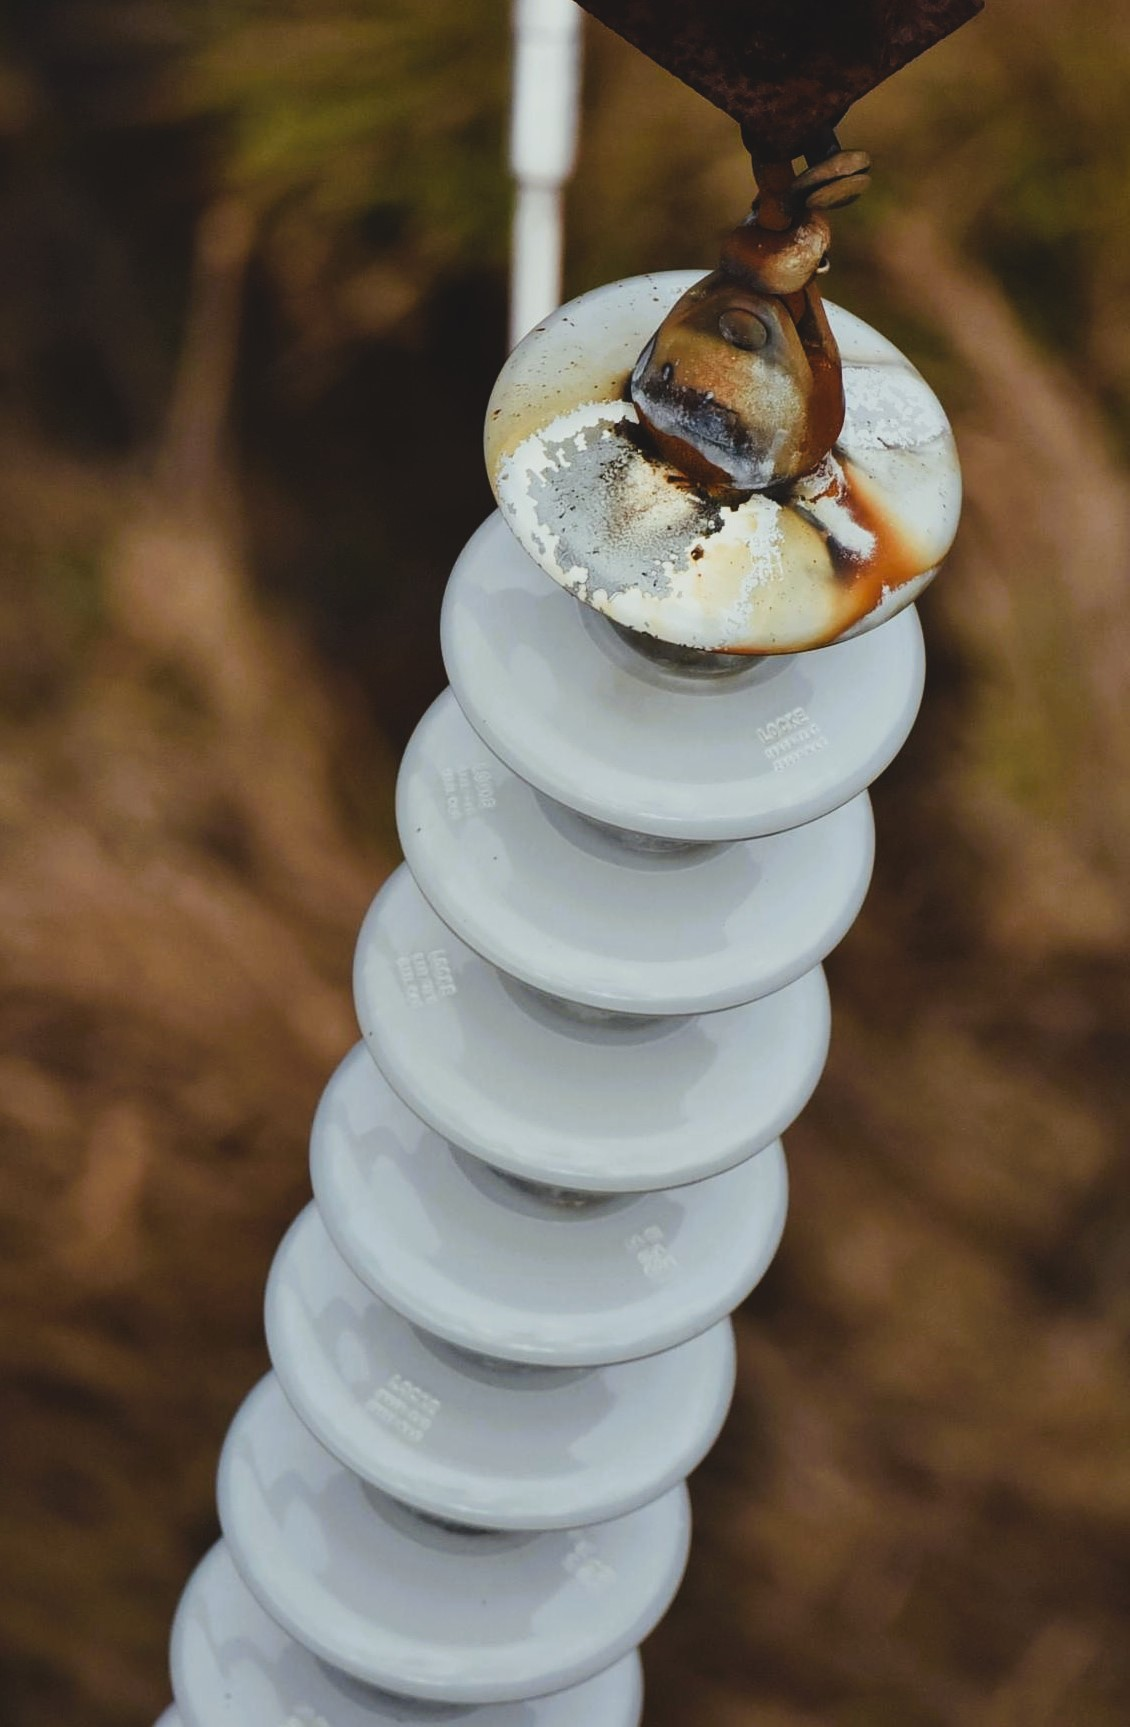Insulator flashover: (449, 234, 980, 664)
